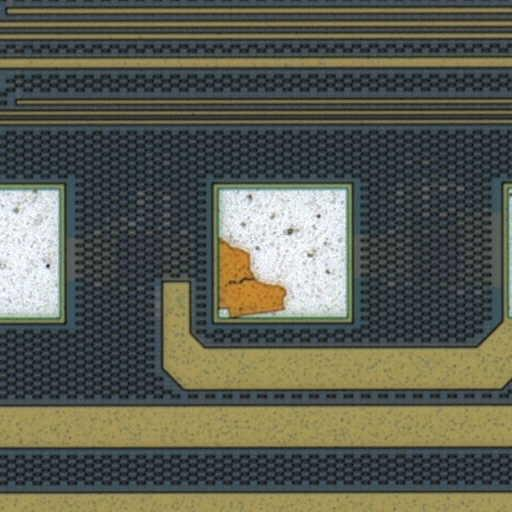BLOCK ETCH: (208, 234, 294, 325)
